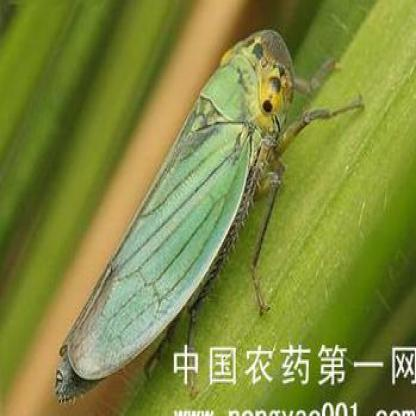Green-Leafhopper: (54, 25, 365, 400)
